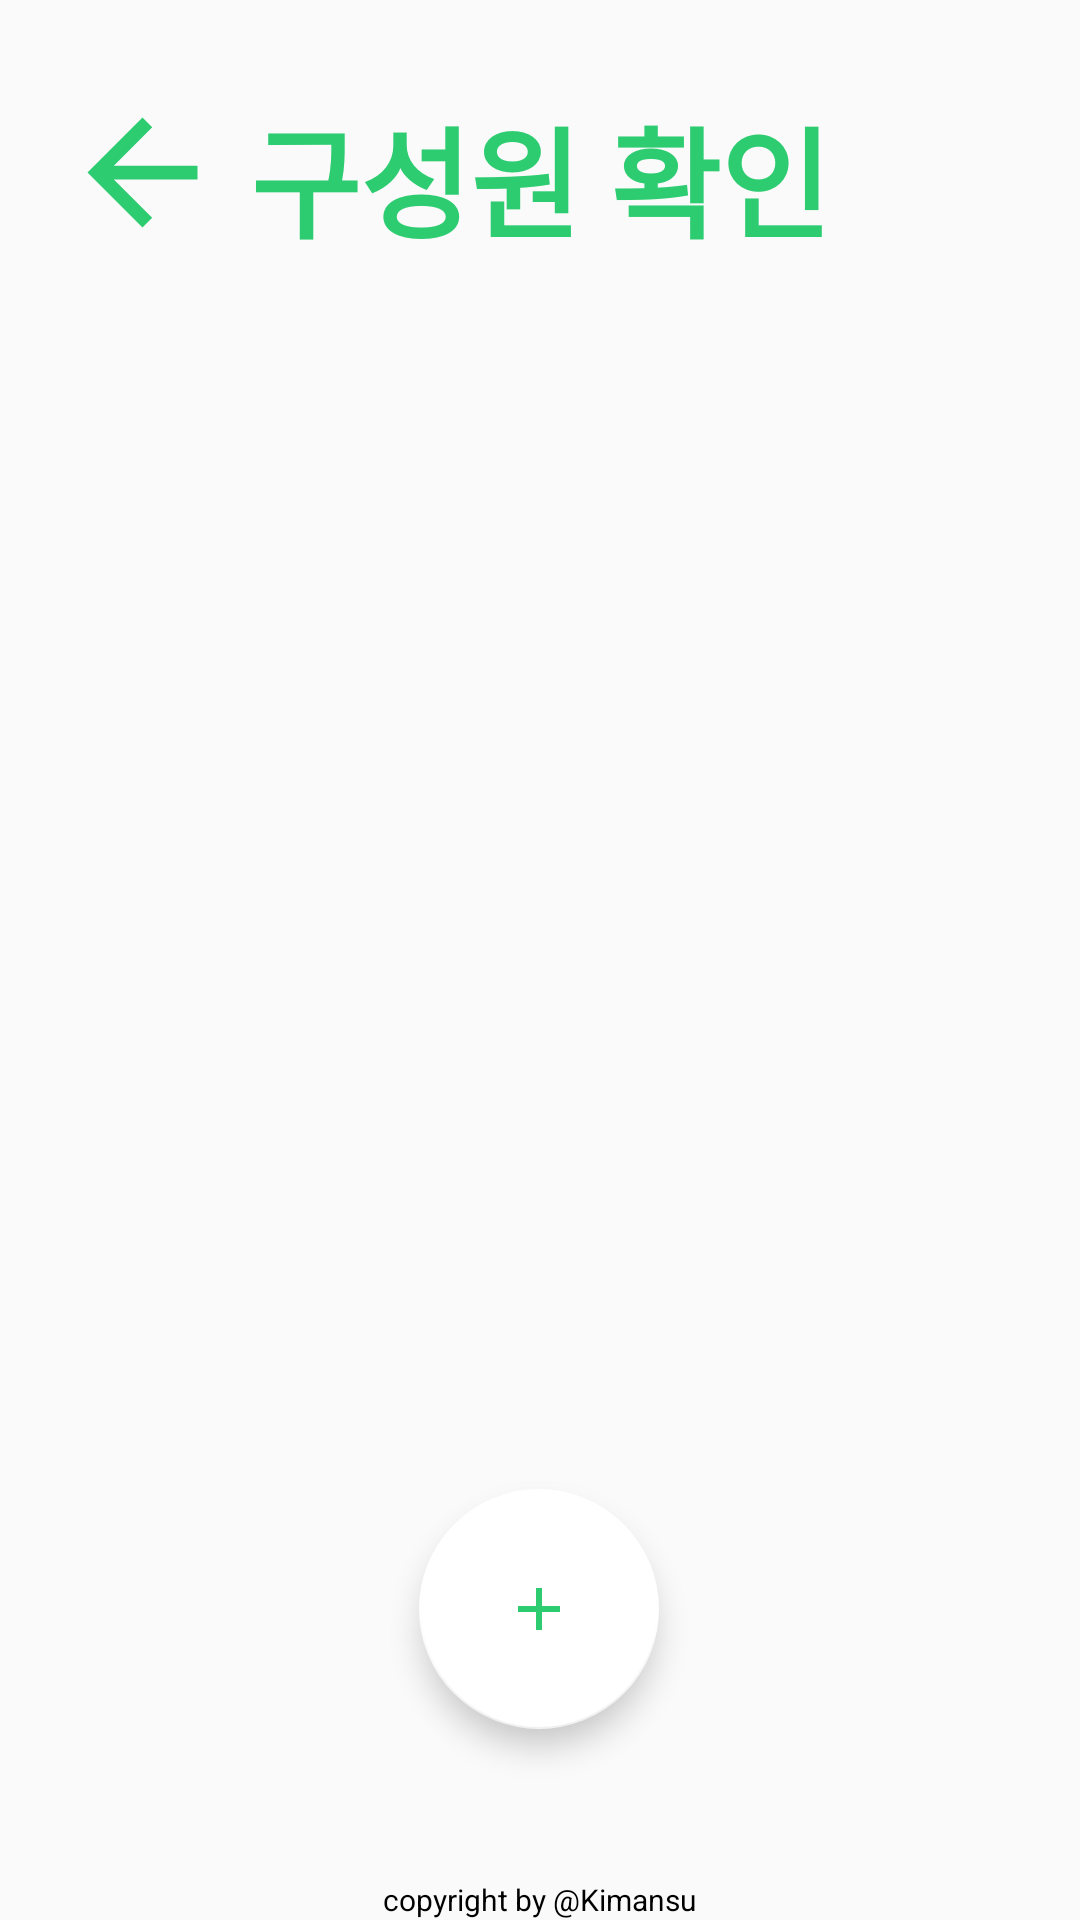

Named icons in this screenshot (1080px x 1920px) and their bounding boxes, (x1, y1, x2, y2):
back: (87, 117, 198, 228)
